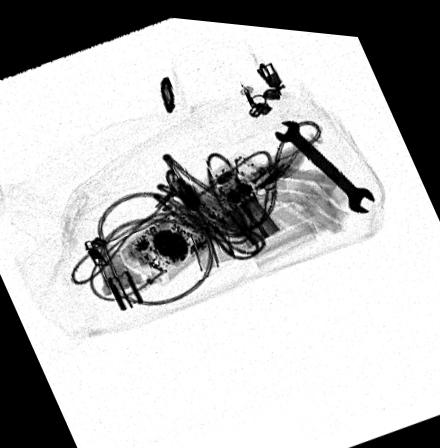Wrench: (273, 112, 378, 207)
